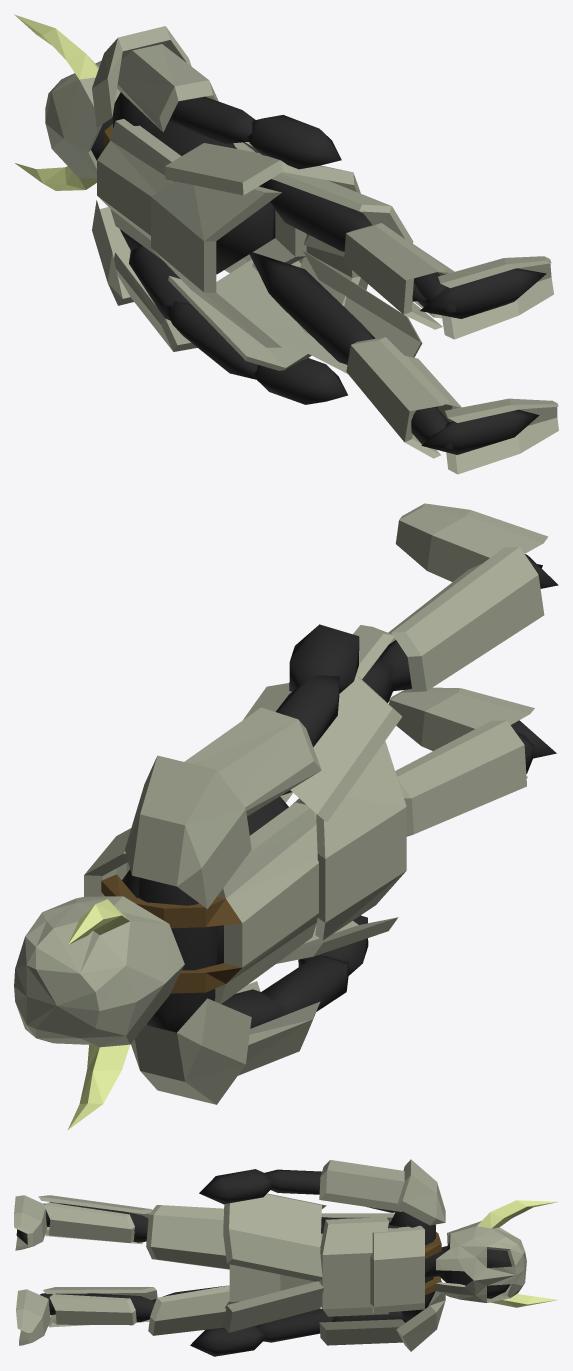
The model's file is knightStanding.dae.
3 renders of one model, top to bottom at view 1: azimuth 30°, elevation 25°; view 2: azimuth 150°, elevation 25°; view 3: azimuth 270°, elevation 25°, orthographic. The views are drawn at different scales.
Visible parts, largest first — view 1: Icosphere.009, Plane.007, Plane, Cube, Icosphere.014, Icosphere.013, Plane.008, Icosphere.010, Plane.005, Icosphere.011, Plane.006, Plane.002 (+13 smaller); view 2: Cube, Plane, Plane.001, Icosphere.011, Plane.007, Icosphere.010, Plane.004, Plane.002, Plane.006, Icosphere.014, Icosphere.013, Icosphere.004 (+9 smaller); view 3: Plane, Plane.006, Cube, Plane.008, Icosphere.011, Icosphere.010, Plane.002, Icosphere.009, Plane.005, Plane.001, Plane.003, Icosphere.006 (+10 smaller).
Boxes of the visible parts, x1,y1,x2,y2 form: Icosphere.009: [249, 250, 422, 373]; Plane.007: [151, 181, 281, 347]; Plane: [97, 119, 306, 273]; Cube: [14, 14, 120, 190]; Icosphere.014: [420, 256, 553, 339]; Icosphere.013: [421, 398, 558, 474]; Plane.008: [259, 172, 413, 256]; Icosphere.010: [346, 337, 461, 458]; Plane.005: [168, 257, 367, 370]; Icosphere.011: [344, 223, 454, 329]; Plane.006: [165, 143, 360, 195]; Plane.002: [117, 44, 218, 132]; Cube: [14, 896, 184, 1130]; Plane: [84, 802, 318, 1003]; Plane.001: [125, 755, 251, 908]; Icosphere.011: [379, 546, 544, 692]; Plane.007: [315, 741, 406, 940]; Icosphere.010: [395, 720, 526, 836]; Plane.004: [131, 998, 251, 1104]; Plane.002: [184, 707, 321, 816]; Plane.006: [243, 675, 402, 822]; Icosphere.014: [395, 503, 558, 588]; Icosphere.013: [389, 687, 556, 778]; Icosphere.004: [137, 877, 218, 1032]; Plane: [281, 1213, 441, 1316]; Plane.006: [223, 1193, 326, 1281]; Cube: [436, 1200, 557, 1307]; Plane.008: [146, 1205, 229, 1269]; Icosphere.011: [38, 1195, 152, 1244]; Icosphere.010: [43, 1287, 157, 1327]; Plane.002: [319, 1160, 404, 1211]; Icosphere.009: [148, 1285, 229, 1335]; Plane.005: [223, 1281, 323, 1332]; Plane.001: [396, 1159, 445, 1225]; Plane.003: [319, 1319, 404, 1345]; Icosphere.006: [199, 1169, 273, 1204].
Size of the model in its own units: 1.46 by 5.66 by 2.05.
